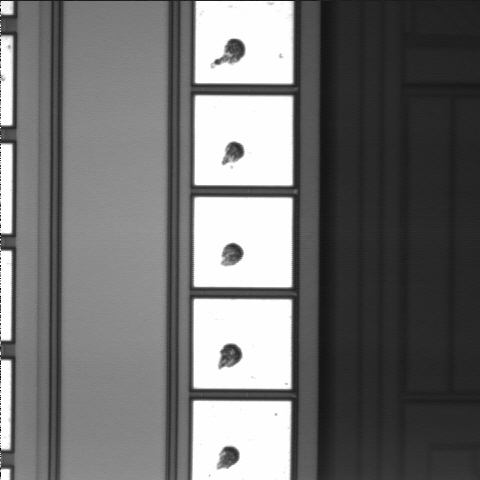pad: (194, 197, 292, 287), (194, 299, 292, 389), (195, 96, 293, 185)
